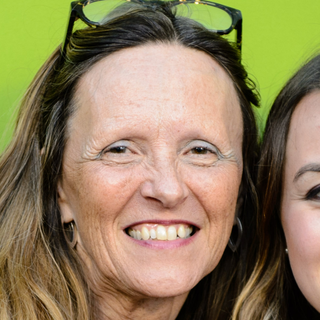eye: (94, 140, 143, 163), (180, 140, 224, 164)
